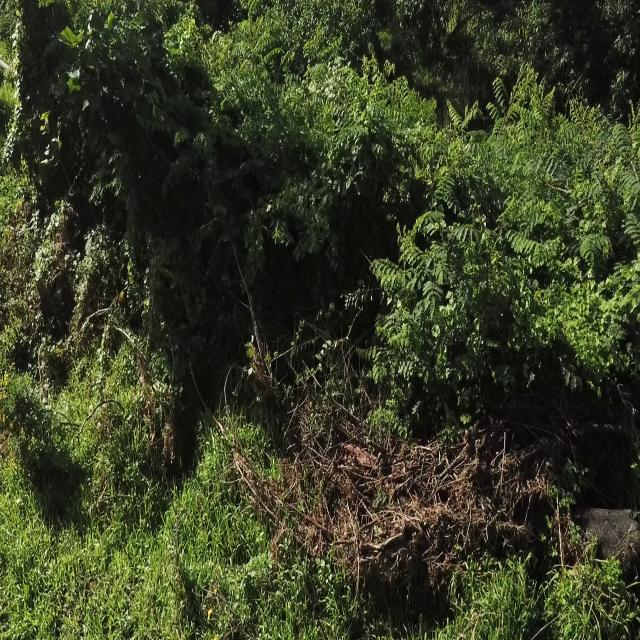Mysore-Thorn-Weed: (372, 88, 482, 438), (271, 33, 379, 234), (487, 64, 563, 267), (574, 98, 634, 300), (202, 0, 266, 141), (138, 116, 203, 200)
